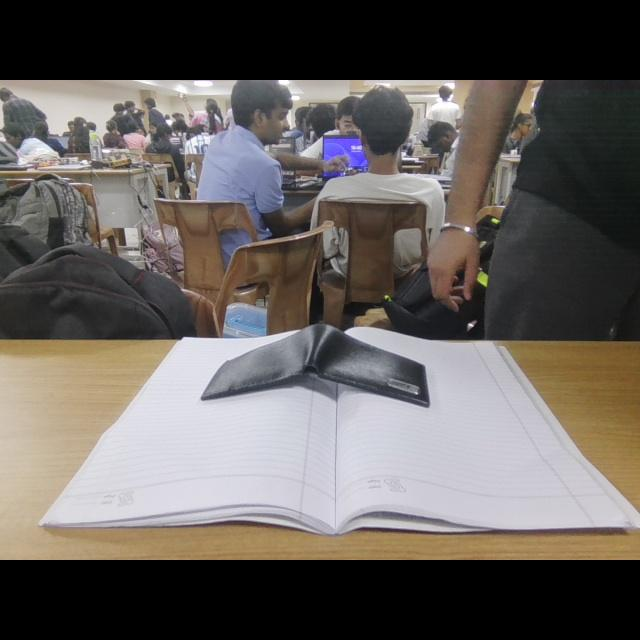wallet: (190, 320, 446, 418)
